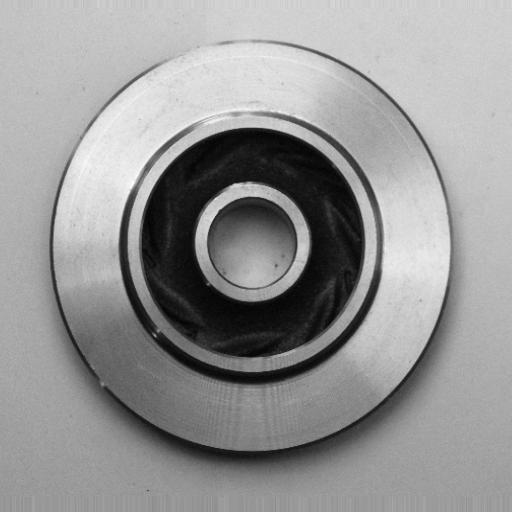scratch: (152, 28, 247, 76), (189, 102, 271, 135)
unpolished_casting: (49, 38, 452, 460)
